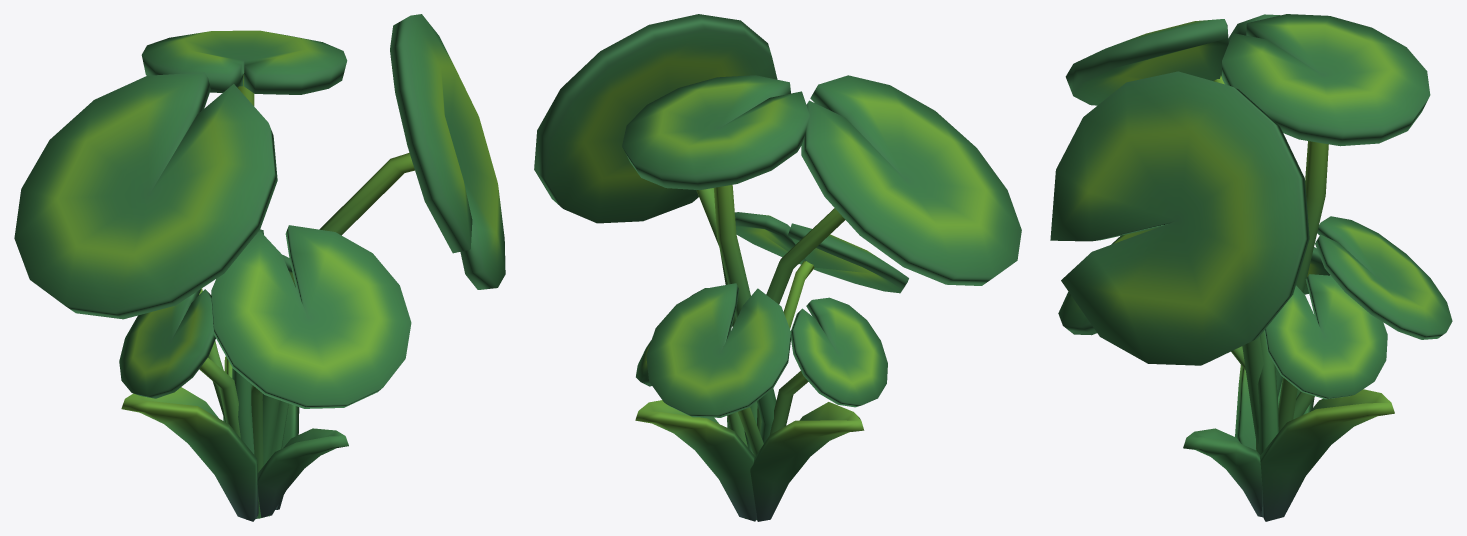
File: Plants_031.fbx
3 views of the same model, side by side, from view 1: azimuth 30°, elevation 25°; view 2: azimuth 150°, elevation 25°; view 3: azimuth 270°, elevation 25° (orthographic). The views are drawn at different scales.
Parts seen in each view (by area): view 1: Plants.031; view 2: Plants.031; view 3: Plants.031.
Part boxes in pixels (x1,y1,x2,y2): Plants.031: (14,14,505,521); Plants.031: (534,14,1021,521); Plants.031: (1050,14,1452,521).
Bounding box in the file's own units: 764 × 744 × 547.
